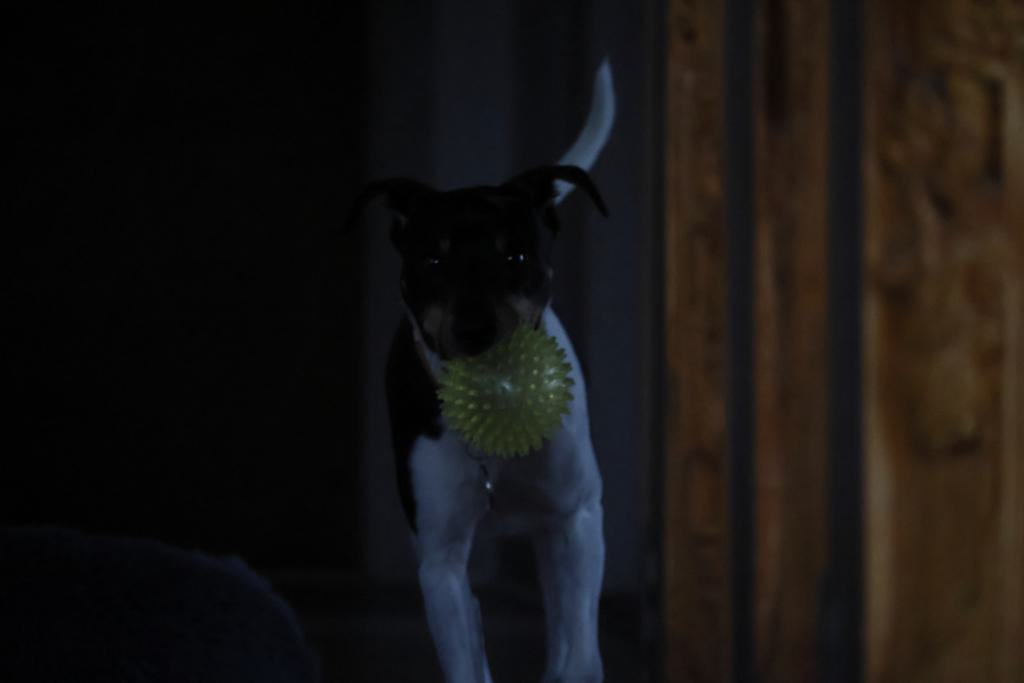Dog: (325, 44, 646, 683)
